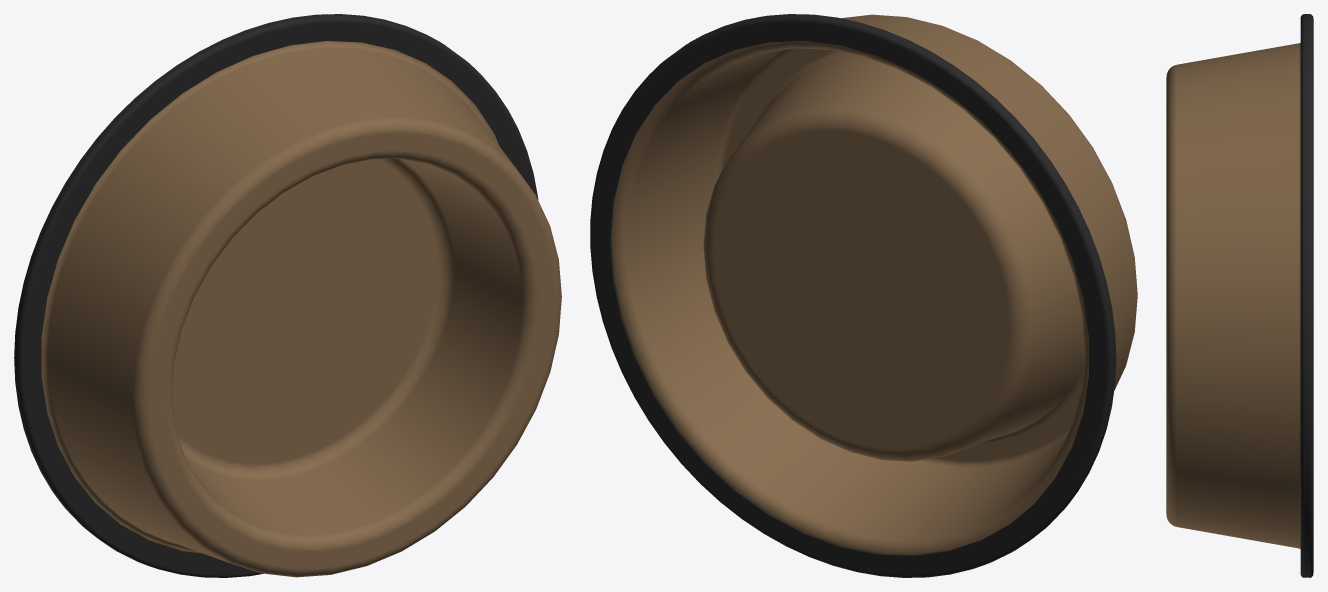
3 views of the same model, side by side, from view 1: azimuth 30°, elevation 25°; view 2: azimuth 150°, elevation 25°; view 3: azimuth 270°, elevation 25° (orthographic). The views are drawn at different scales.
Parts seen in each view (by area): view 1: Body2, Body2:1; view 2: Body2, Body2:1; view 3: Body2, Body2:1.
Boxes of the visible parts, box(x1,y1,x2,y2) form: Body2: box(41, 41, 561, 577); Body2:1: box(14, 14, 538, 577); Body2: box(611, 14, 1137, 554); Body2:1: box(590, 14, 1116, 577); Body2: box(1166, 43, 1300, 548); Body2:1: box(1300, 14, 1313, 577).
Size of the model in its own units: 22.26 by 22.24 by 5.8.
